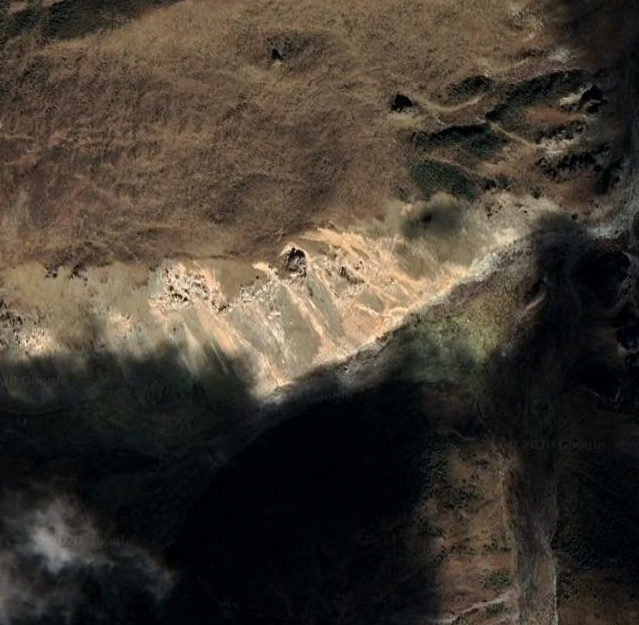slope: (11, 182, 624, 450)
